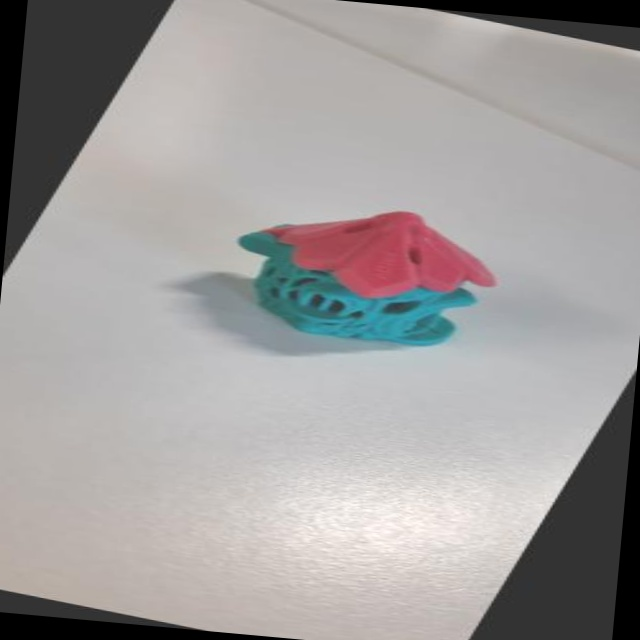House: (117, 152, 557, 397)
